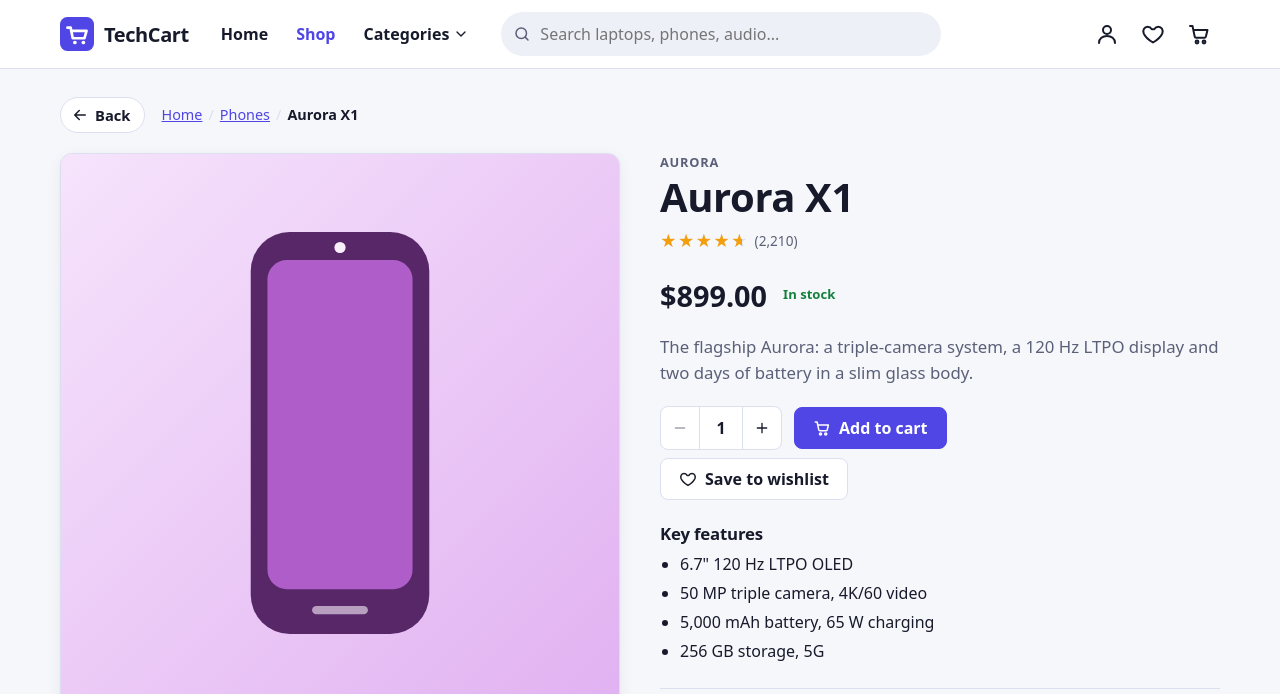
Test case: BackButton › goes back to the previous page in the visit
Check: the heading "Aurora X1" is shown, box [660,169,854,224]
Click the button "Back": (103, 115) [60,97,146,133]
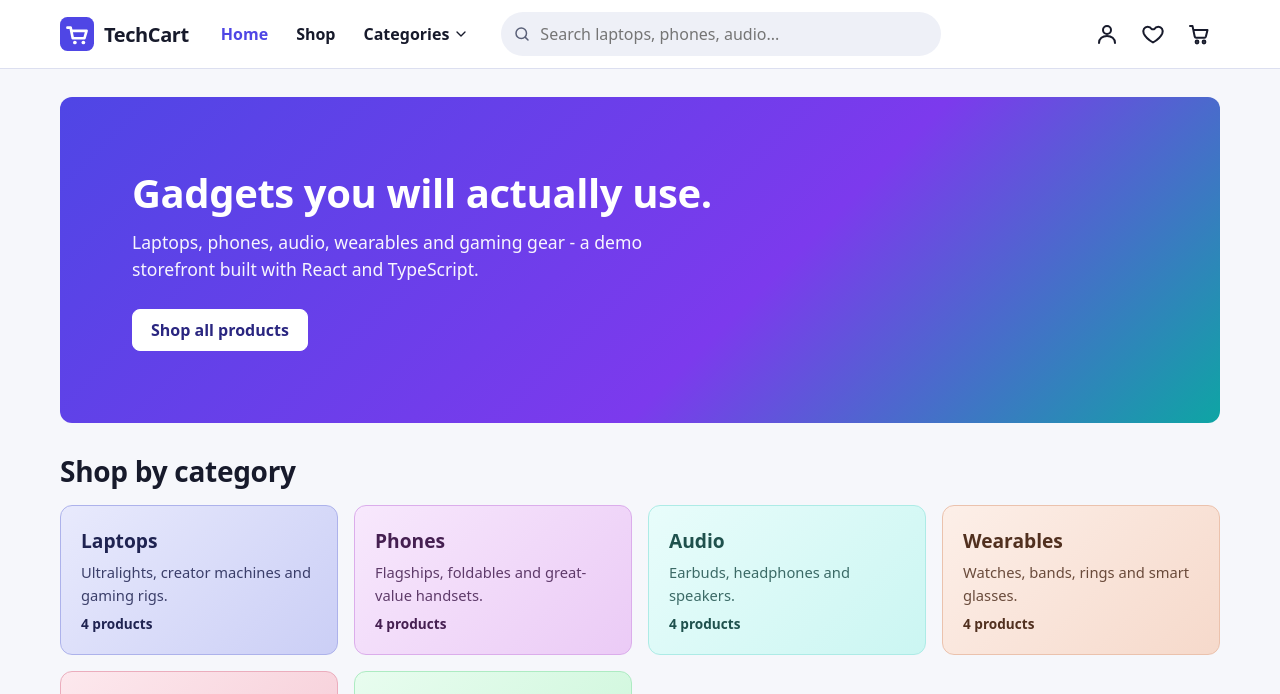
Check: the heading "Gadgets you will actually use." is shown, box [132,165,712,220]
